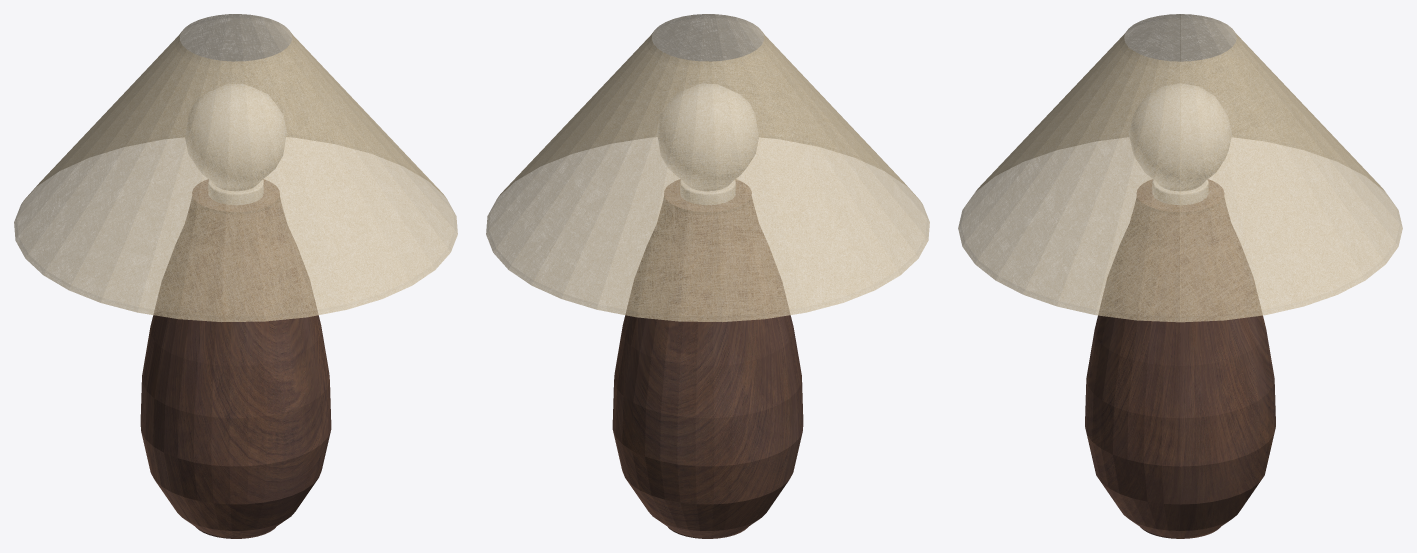
Rendered from lamp4.glb.
The picture shows the model from 3 angles, left to right: view 1: azimuth 30°, elevation 25°; view 2: azimuth 150°, elevation 25°; view 3: azimuth 270°, elevation 25°; orthographic projection.
Parts seen in each view (by area): view 1: MWA_Shade, MWA_Base, MWA_L_Glass, MWA_L_Base; view 2: MWA_Shade, MWA_Base, MWA_L_Glass, MWA_L_Base; view 3: MWA_Shade, MWA_Base, MWA_L_Glass, MWA_L_Base.
Part boxes in pixels (x1,y1,x2,y2): MWA_Shade: (14, 14, 457, 322); MWA_Base: (140, 179, 331, 538); MWA_L_Glass: (185, 84, 286, 190); MWA_L_Base: (208, 180, 263, 204); MWA_Shade: (486, 14, 929, 322); MWA_Base: (612, 179, 803, 538); MWA_L_Glass: (657, 84, 758, 190); MWA_L_Base: (680, 180, 735, 204); MWA_Shade: (958, 14, 1402, 322); MWA_Base: (1085, 179, 1275, 538); MWA_L_Glass: (1129, 83, 1231, 190); MWA_L_Base: (1152, 180, 1208, 204).
Size of the model in its own units: 0.3504 by 0.4198 by 0.3504.
Materials: 4 (2 with a texture image).
